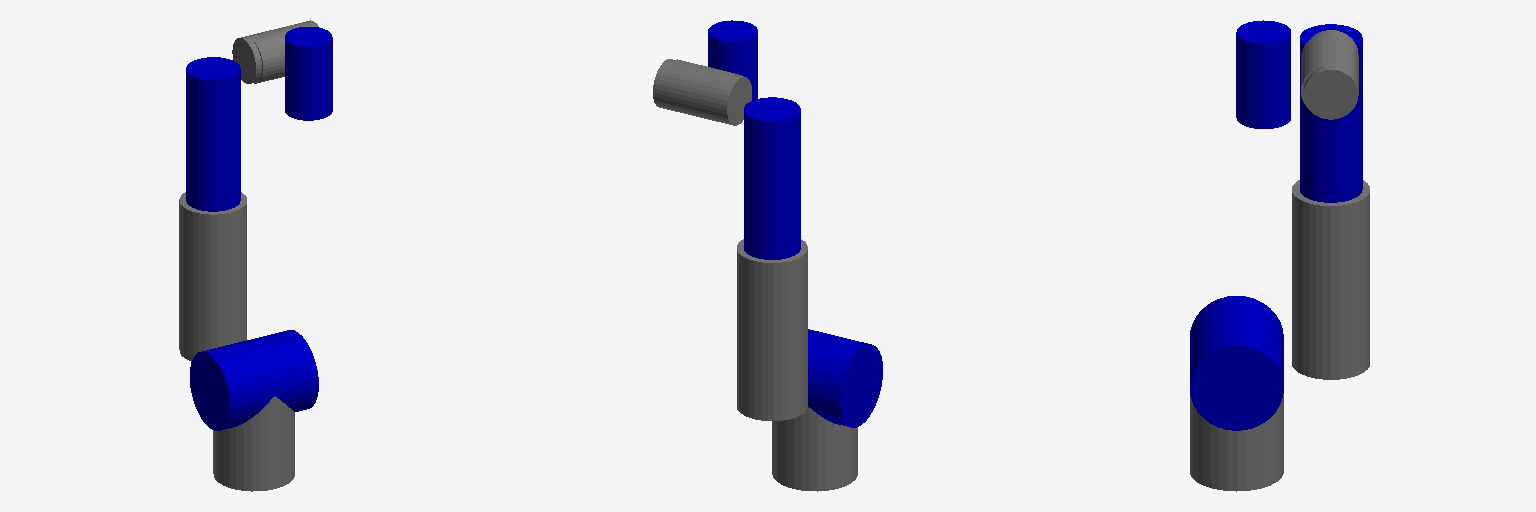
robot.urdf — ur3_clean:
<?xml version="1.0" ?>
<robot name="ur3_clean">

  <link name="base_link">
    <collision>
      <geometry>
        <cylinder length="0.15" radius="0.06"/>
      </geometry>
      <origin rpy="0 0 0" xyz="0 0 0.075"/>
    </collision>
    <visual>
      <geometry>
        <cylinder length="0.15" radius="0.06"/>
      </geometry>
      <origin rpy="0 0 0" xyz="0 0 0.075"/>
      <material name="Gray"><color rgba="0.5 0.5 0.5 1"/></material>
    </visual>
  </link>

  <link name="shoulder_link">
    <collision>
      <geometry>
        <cylinder length="0.15" radius="0.06"/>
      </geometry>
      <origin rpy="0 1.57 0" xyz="0 0 0"/>
    </collision>
    <visual>
      <geometry>
        <cylinder length="0.15" radius="0.06"/>
      </geometry>
      <origin rpy="0 1.57 0" xyz="0 0 0"/>
      <material name="Blue"><color rgba="0 0 0.8 1"/></material>
    </visual>
  </link>

  <link name="upper_arm_link">
    <collision>
      <geometry>
        <cylinder length="0.24365" radius="0.05"/>
      </geometry>
      <origin rpy="0 1.5707 0" xyz="-0.1218 0 0.0"/> </collision>
    <visual>
      <geometry>
        <cylinder length="0.24365" radius="0.05"/>
      </geometry>
      <origin rpy="0 1.5707 0" xyz="-0.1218 0 0.0"/>
      <material name="Gray"/>
    </visual>
  </link>

  <link name="forearm_link">
    <collision>
      <geometry>
        <cylinder length="0.21325" radius="0.04"/>
      </geometry>
      <origin rpy="0 1.5707 0" xyz="-0.1066 0 0.0"/>
    </collision>
    <visual>
      <geometry>
        <cylinder length="0.21325" radius="0.04"/>
      </geometry>
      <origin rpy="0 1.5707 0" xyz="-0.1066 0 0.0"/>
      <material name="Blue"/>
    </visual>
  </link>

  <link name="wrist_1_link">
    <collision>
      <geometry>
        <cylinder length="0.12" radius="0.035"/>
      </geometry>
      <origin rpy="0 1.5707 0" xyz="0 0 0"/>
    </collision>
    <visual>
      <geometry>
        <cylinder length="0.12" radius="0.035"/>
      </geometry>
      <origin rpy="0 1.5707 0" xyz="0 0 0"/>
      <material name="Gray"/>
    </visual>
  </link>

  <link name="wrist_2_link">
    <collision>
      <geometry>
        <cylinder length="0.12" radius="0.035"/>
      </geometry>
      <origin rpy="0 0 0" xyz="0 0 0"/>
    </collision>
    <visual>
      <geometry>
        <cylinder length="0.12" radius="0.035"/>
      </geometry>
      <origin rpy="0 0 0" xyz="0 0 0"/>
      <material name="Blue"/>
    </visual>
  </link>

  <link name="wrist_3_link">
    <collision>
      <geometry>
        <cylinder length="0.10" radius="0.035"/>
      </geometry>
      <origin rpy="0 1.5707 0" xyz="0 0 0"/>
    </collision>
    <visual>
      <geometry>
        <cylinder length="0.10" radius="0.035"/>
      </geometry>
      <origin rpy="0 1.5707 0" xyz="0 0 0"/>
      <material name="Gray"/>
    </visual>
  </link>
  
  <link name="tool0"/> <joint name="shoulder_pan_joint" type="revolute">
    <parent link="base_link"/>
    <child link="shoulder_link"/>
    <origin rpy="0 0 0" xyz="0 0 0.1519"/>
    <axis xyz="0 0 1"/>
    <limit effort="54.0" lower="-6.28" upper="6.28" velocity="3.14"/>
  </joint>

  <joint name="shoulder_lift_joint" type="revolute">
    <parent link="shoulder_link"/>
    <child link="upper_arm_link"/>
    <origin rpy="0 1.570796327 0" xyz="0 0.1198 0"/>
    <axis xyz="0 1 0"/>
    <limit effort="54.0" lower="-6.28" upper="6.28" velocity="3.14"/>
  </joint>

  <joint name="elbow_joint" type="revolute">
    <parent link="upper_arm_link"/>
    <child link="forearm_link"/>
    <origin rpy="0 0 0" xyz="-0.24365 0 0"/>
    <axis xyz="0 1 0"/>
    <limit effort="28.0" lower="-3.14" upper="3.14" velocity="3.14"/>
  </joint>

  <joint name="wrist_1_joint" type="revolute">
    <parent link="forearm_link"/>
    <child link="wrist_1_link"/>
    <origin rpy="0 1.570796327 0" xyz="-0.21325 0 0.11235"/>
    <axis xyz="0 1 0"/>
    <limit effort="12.0" lower="-6.28" upper="6.28" velocity="6.28"/>
  </joint>

  <joint name="wrist_2_joint" type="revolute">
    <parent link="wrist_1_link"/>
    <child link="wrist_2_link"/>
    <origin rpy="0 0 0" xyz="0 -0.08535 0"/>
    <axis xyz="0 0 1"/>
    <limit effort="12.0" lower="-6.28" upper="6.28" velocity="6.28"/>
  </joint>

  <joint name="wrist_3_joint" type="revolute">
    <parent link="wrist_2_link"/>
    <child link="wrist_3_link"/>
    <origin rpy="0 0 0" xyz="0 0.0819 0"/>
    <axis xyz="0 1 0"/>
    <limit effort="12.0" lower="-6.28" upper="6.28" velocity="6.28"/>
  </joint>

  <joint name="wrist_3_link-tool0_fixed_joint" type="fixed">
    <origin rpy="-1.5707963267948966 0 0" xyz="0 0 0"/>
    <parent link="wrist_3_link"/>
    <child link="tool0"/>
  </joint>

</robot>

--- Facts derived from the render (not from the file) ---
Views: 3 orthographic renders of the robot side by side, from view 1: azimuth 30°, elevation 25°; view 2: azimuth 150°, elevation 25°; view 3: azimuth 270°, elevation 25°.
Model ur3_clean with 8 links and 7 joints (6 revolute, 1 fixed), rooted at base_link, posed every joint at zero.
Links seen in each view (by area): view 1: upper_arm_link, shoulder_link, forearm_link, base_link, wrist_2_link, wrist_1_link, wrist_3_link; view 2: upper_arm_link, forearm_link, shoulder_link, base_link, wrist_1_link, wrist_2_link; view 3: upper_arm_link, shoulder_link, forearm_link, base_link, wrist_2_link, wrist_1_link, wrist_3_link.
Link boxes in pixels (x1,y1,x2,y2): upper_arm_link: (179,192,246,361); shoulder_link: (190,330,318,430); forearm_link: (186,57,240,211); base_link: (213,396,294,491); wrist_2_link: (285,27,332,120); wrist_1_link: (232,20,319,83); wrist_3_link: (251,24,312,83); upper_arm_link: (737,239,807,420); forearm_link: (744,97,800,259); shoulder_link: (808,329,882,427); base_link: (772,407,857,491); wrist_1_link: (653,59,751,125); wrist_2_link: (708,20,757,100); upper_arm_link: (1292,180,1369,379); shoulder_link: (1190,296,1283,430); forearm_link: (1300,24,1362,202); base_link: (1190,393,1283,491); wrist_2_link: (1236,20,1290,128); wrist_1_link: (1304,30,1358,119); wrist_3_link: (1301,33,1329,106).
Bounding box of the posed robot: 0.2474 × 0.2298 × 0.6688 m (x, y, z).
Geometry: primitives only (box / cylinder / sphere), no mesh files.